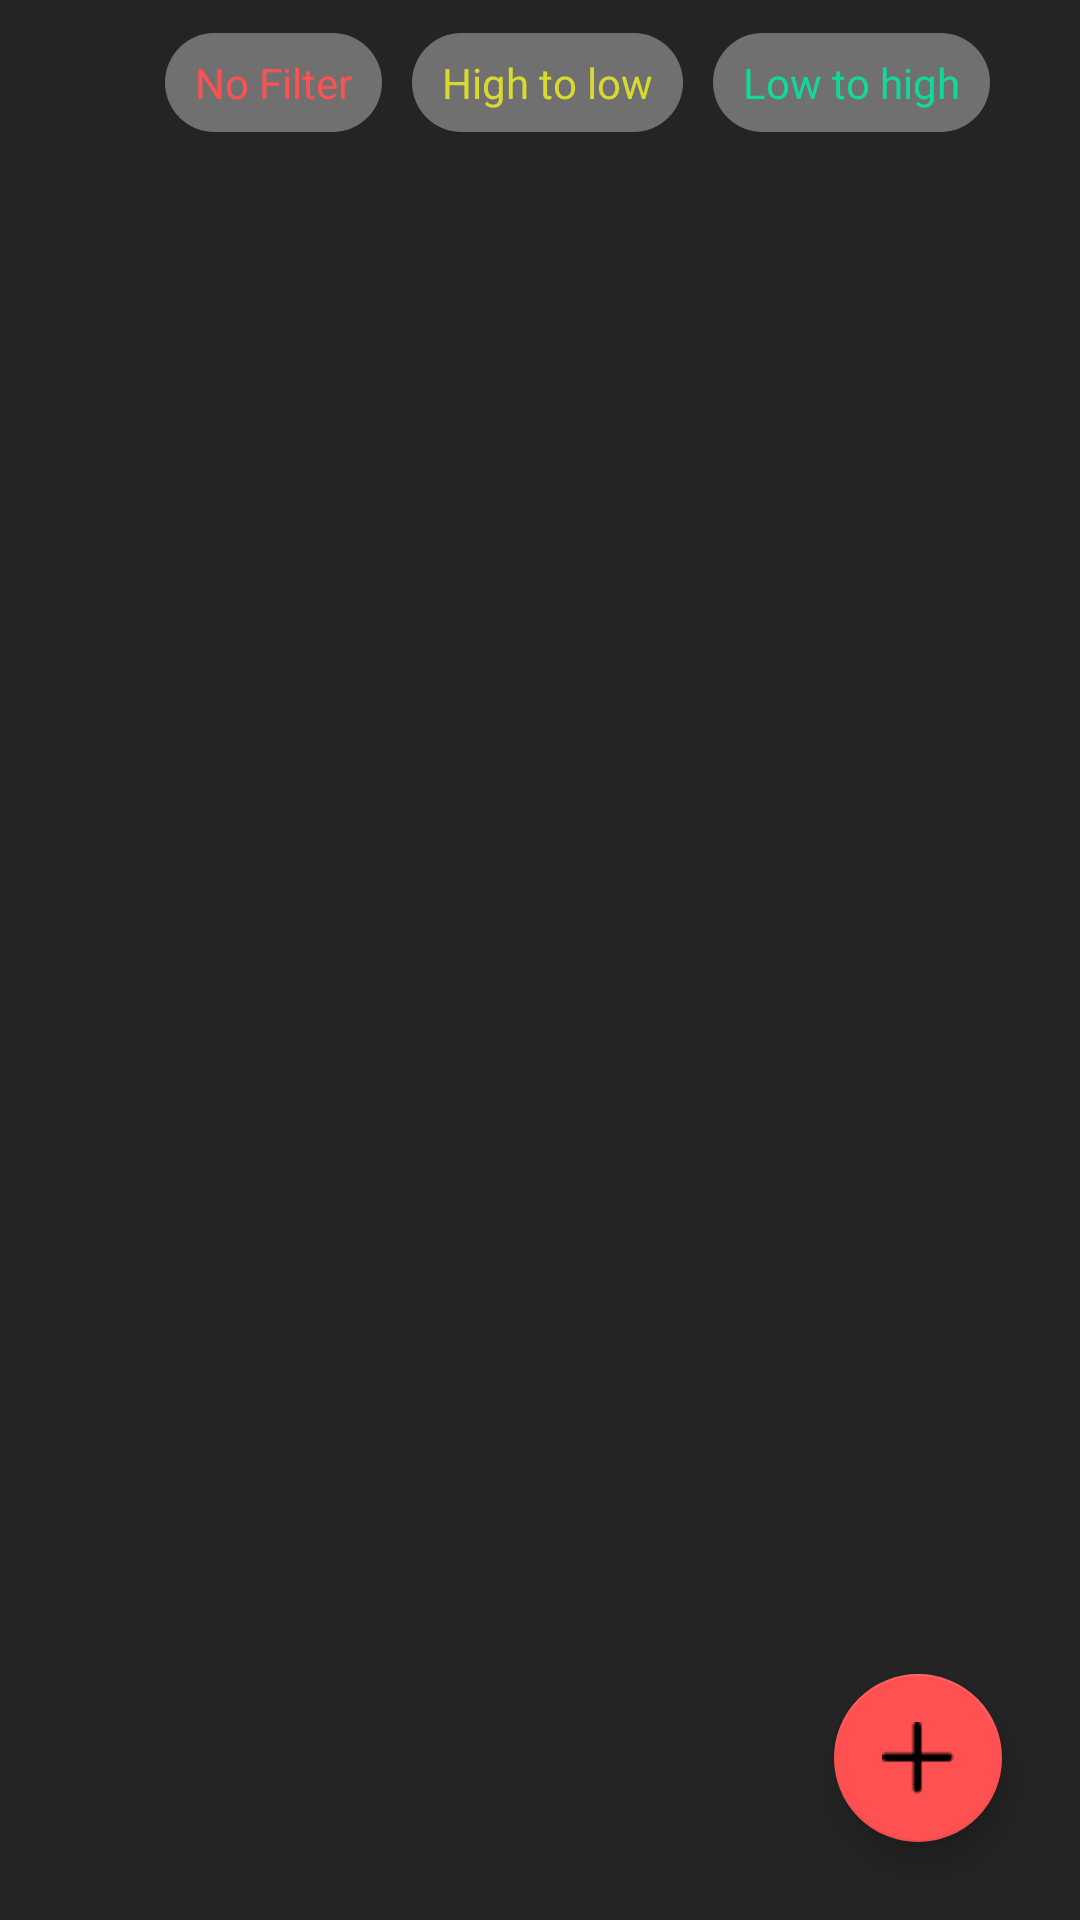

Point at icon controls on the screen. Image size 1080×1920, points as (x=x, y=y).
plus: (x=918, y=1758)
